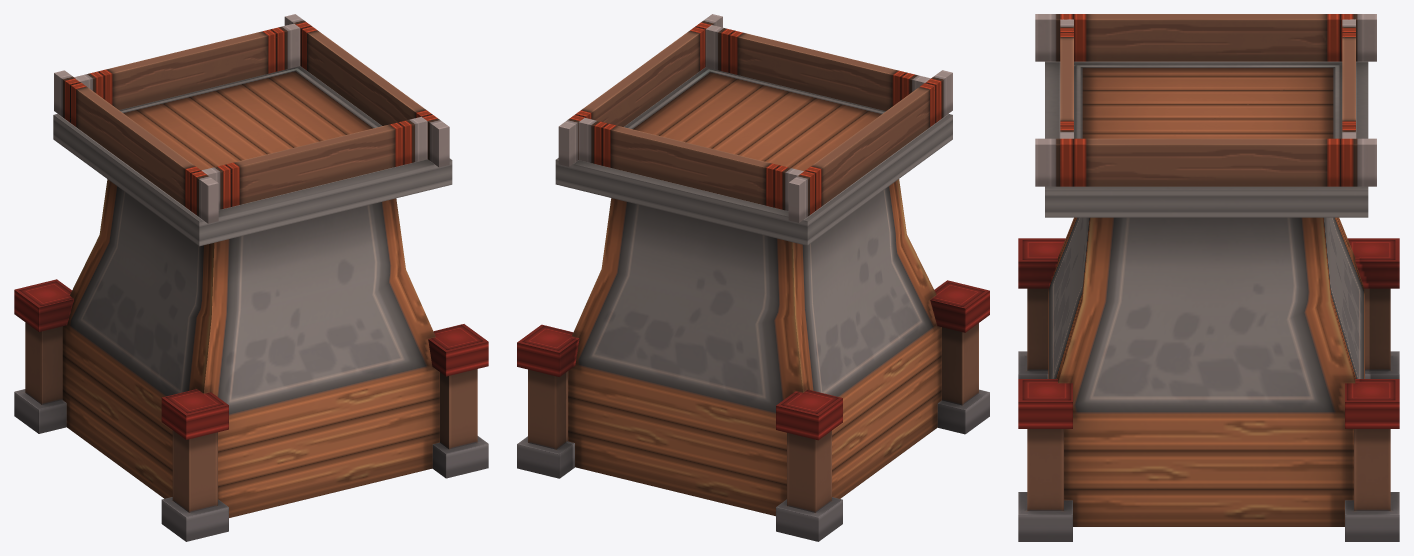
Rendered from ArcherTower_Level1.FBX.
3 views of the same model, side by side, from view 1: azimuth 30°, elevation 25°; view 2: azimuth 150°, elevation 25°; view 3: azimuth 270°, elevation 25° (orthographic). The views are drawn at different scales.
Parts seen in each view (by area): view 1: ArcherTower_Level1; view 2: ArcherTower_Level1; view 3: ArcherTower_Level1.
Part boxes in pixels (<box>): ArcherTower_Level1: <box>14,14,488,541</box>; ArcherTower_Level1: <box>517,14,989,541</box>; ArcherTower_Level1: <box>1018,14,1399,541</box>.
Bounding box in the file's own units: 43.33 × 47 × 42.68.
